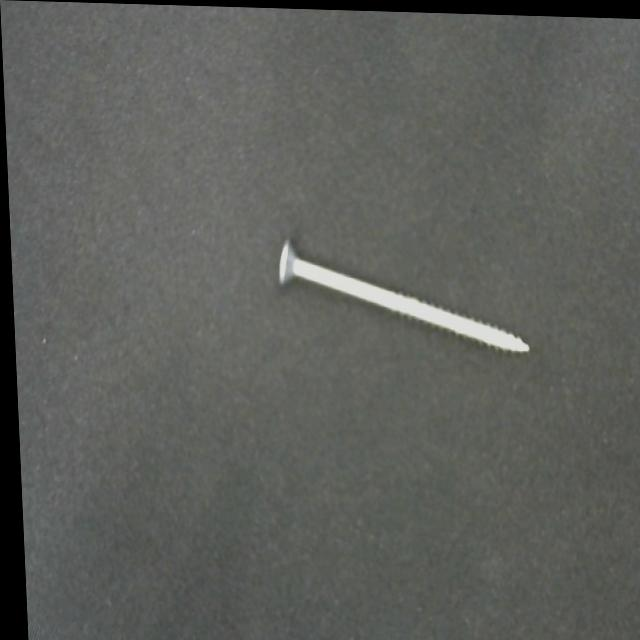WoodScrew: (273, 234, 527, 353)
